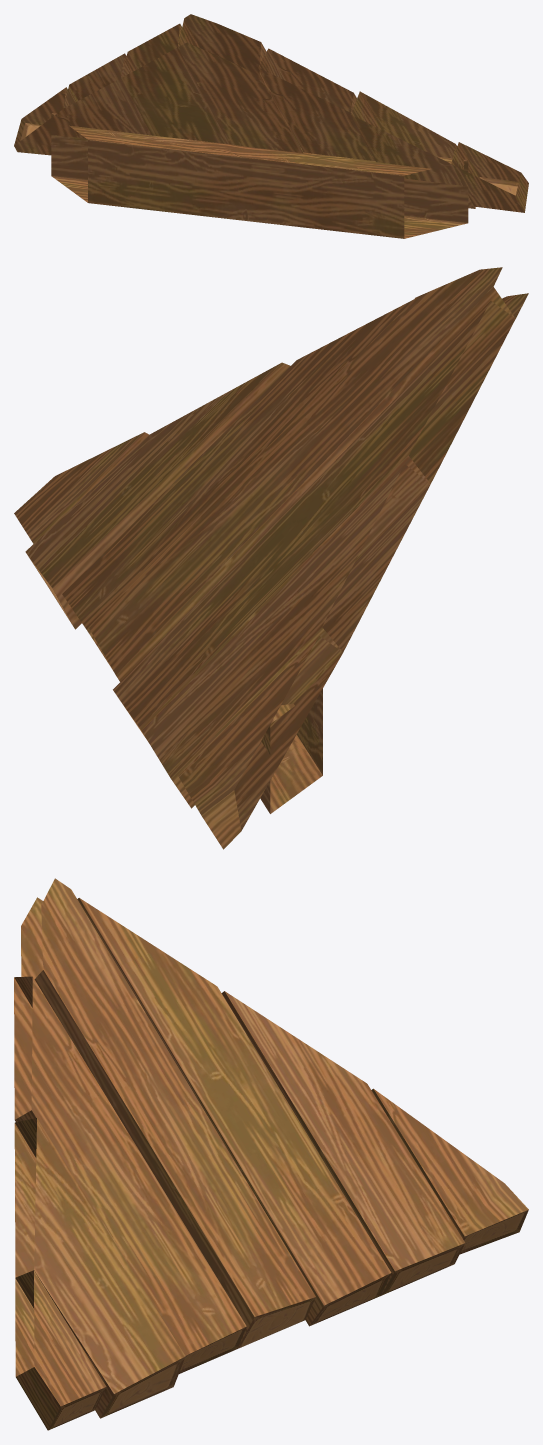
File: Roof_Wooden_2x1_Corner.gltf
The picture shows the model from 3 angles, top to bottom: view 1: azimuth 30°, elevation 25°; view 2: azimuth 150°, elevation 25°; view 3: azimuth 270°, elevation 25°; orthographic projection. The views are drawn at different scales.
Parts seen in each view (by area): view 1: Roof_Wooden_2x1_Corner; view 2: Roof_Wooden_2x1_Corner; view 3: Roof_Wooden_2x1_Corner.
Part boxes in pixels (x1,y1,x2,y2): Roof_Wooden_2x1_Corner: [14, 14, 528, 238]; Roof_Wooden_2x1_Corner: [14, 267, 528, 849]; Roof_Wooden_2x1_Corner: [14, 878, 528, 1430].
Size of the model in its own units: 1.54 by 1.18 by 1.56.
2 materials, 2 textured.
